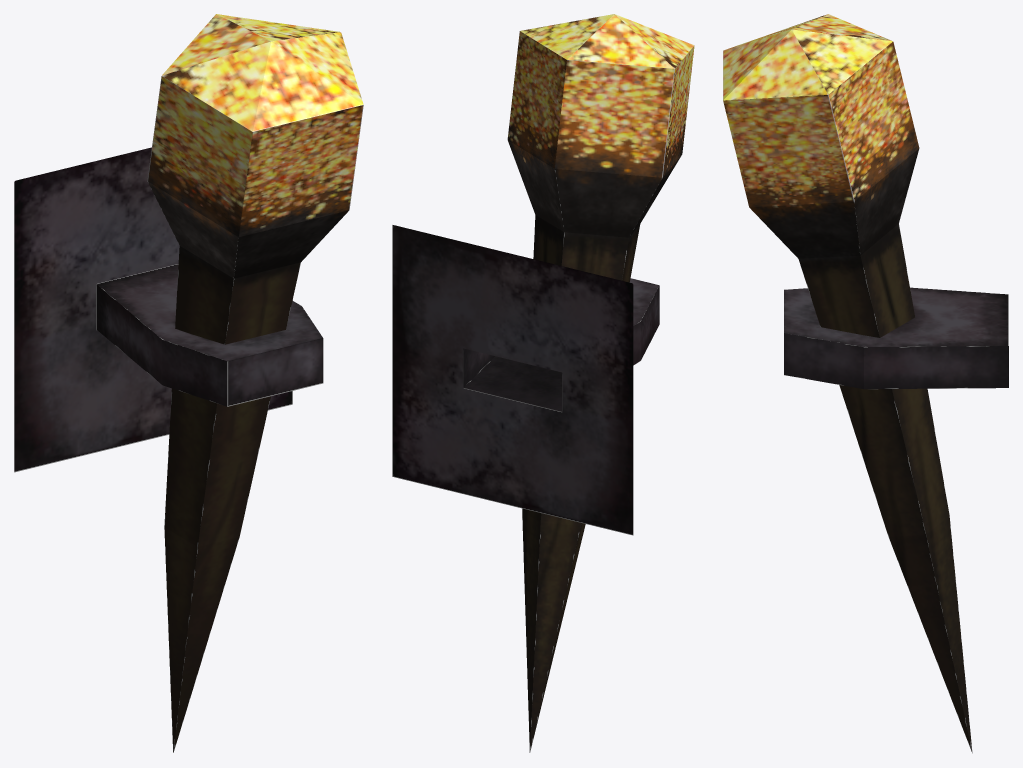
Rendered from Antorcha.fbx.
3 views of the same model, side by side, from view 1: azimuth 30°, elevation 25°; view 2: azimuth 150°, elevation 25°; view 3: azimuth 270°, elevation 25° (orthographic). The views are drawn at different scales.
Parts seen in each view (by area): view 1: cylinder; view 2: cylinder; view 3: cylinder.
Part boxes in pixels (<box>): cylinder: <box>14,14,363,752</box>; cylinder: <box>392,14,694,752</box>; cylinder: <box>723,14,1008,753</box>.
Bounding box in the file's own units: 1620253 × 4358186 × 1558386.
2 materials, 2 textured.
